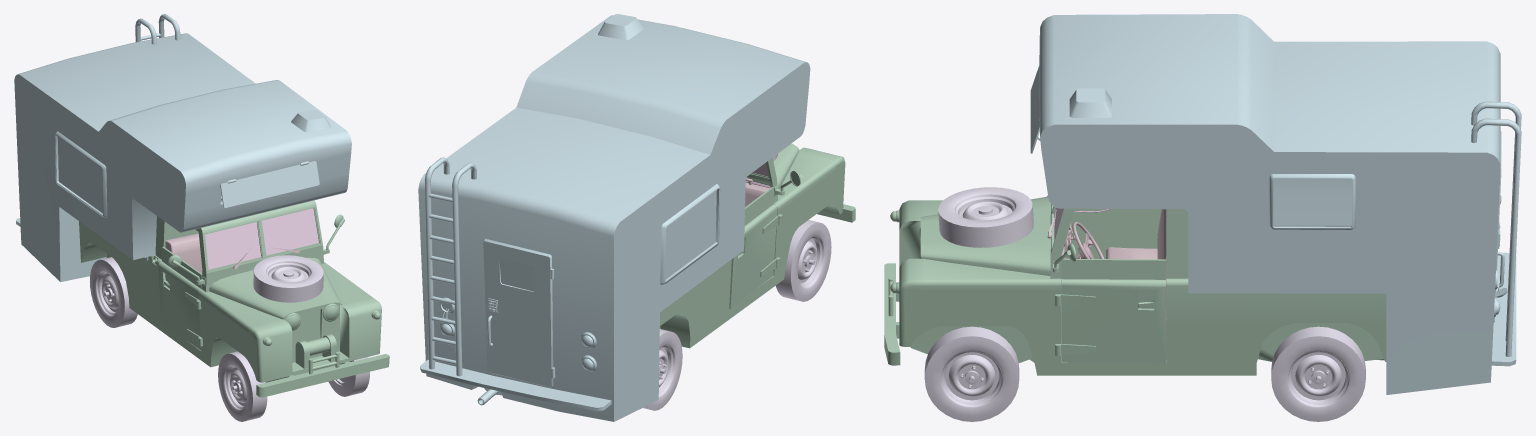
Rendered from campervan2.fbx.
3 renders of one model, left to right at view 1: azimuth 30°, elevation 25°; view 2: azimuth 150°, elevation 25°; view 3: azimuth 270°, elevation 25°, orthographic. The views are drawn at different scales.
Parts seen in each view (by area): view 1: campervan2_wheel; view 2: campervan2_wheel; view 3: campervan2_wheel.
Boxes of the visible parts, x1,y1,x2,y2 form: campervan2_wheel: (14,14,389,421); campervan2_wheel: (418,14,855,421); campervan2_wheel: (884,14,1521,421).
Size of the model in its own units: 8765 by 11644 by 20417.
